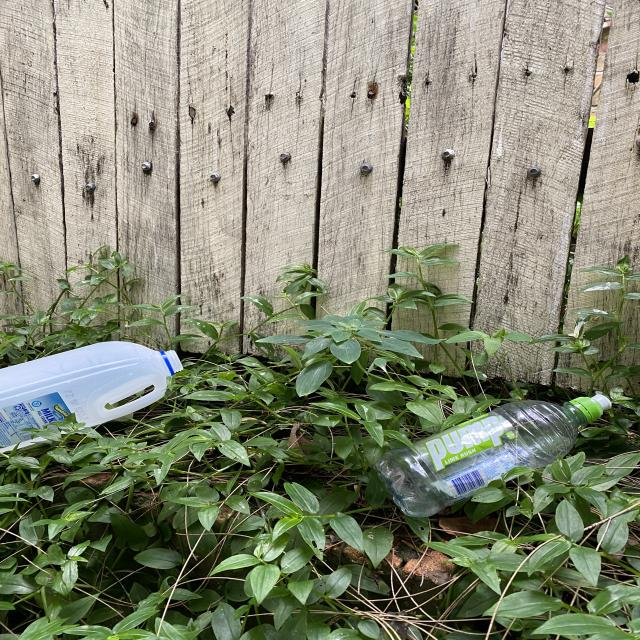bottle: (376, 394, 613, 518), (0, 341, 185, 456)
